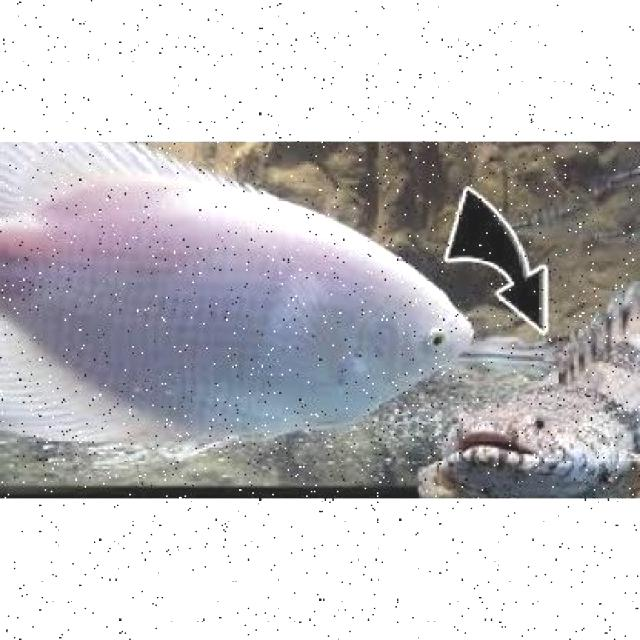gurame: (1, 139, 472, 439)
